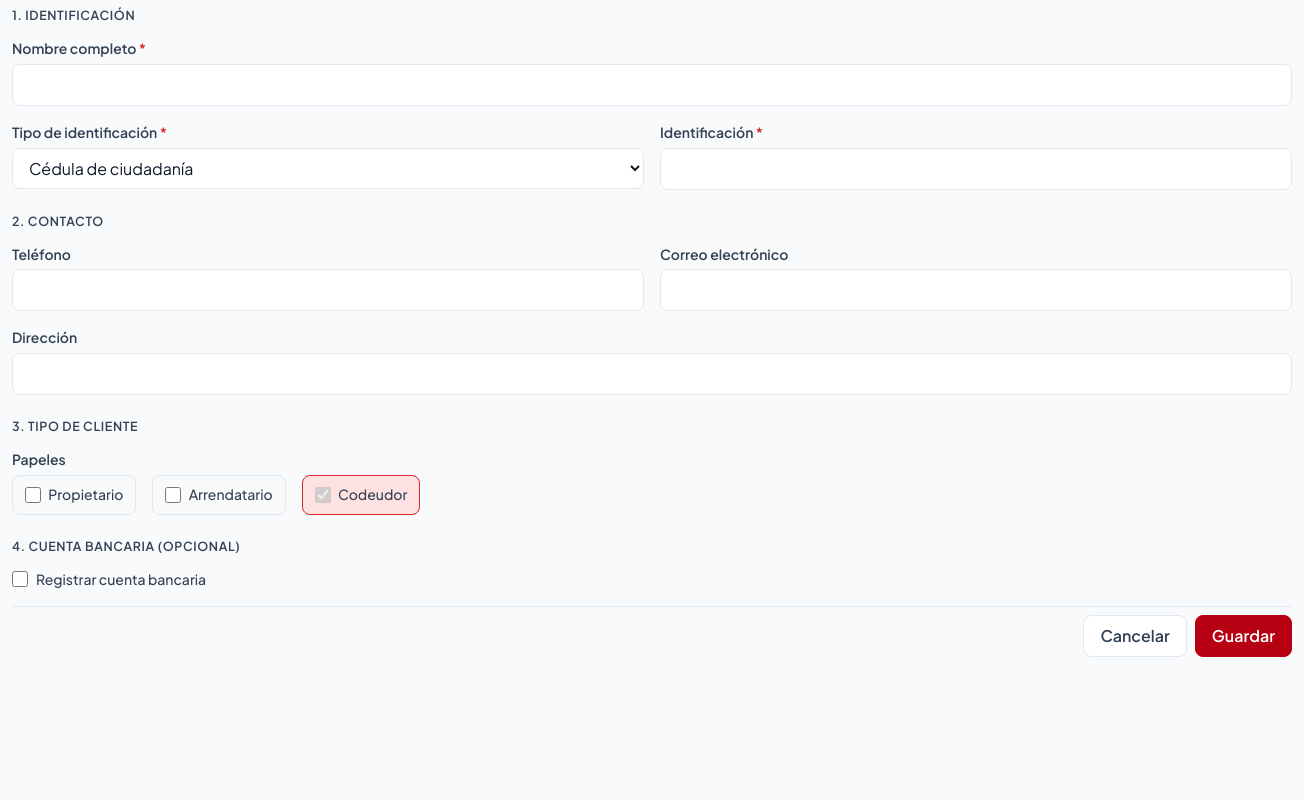
it: PersonaForm › muestra el conflicto de identificación duplicada y conserva lo escrito
The image size is (1304, 800).
Type "Otra Persona" into the field labelled "Nombre completo *" at (652,85), box [12,64,1292,106]
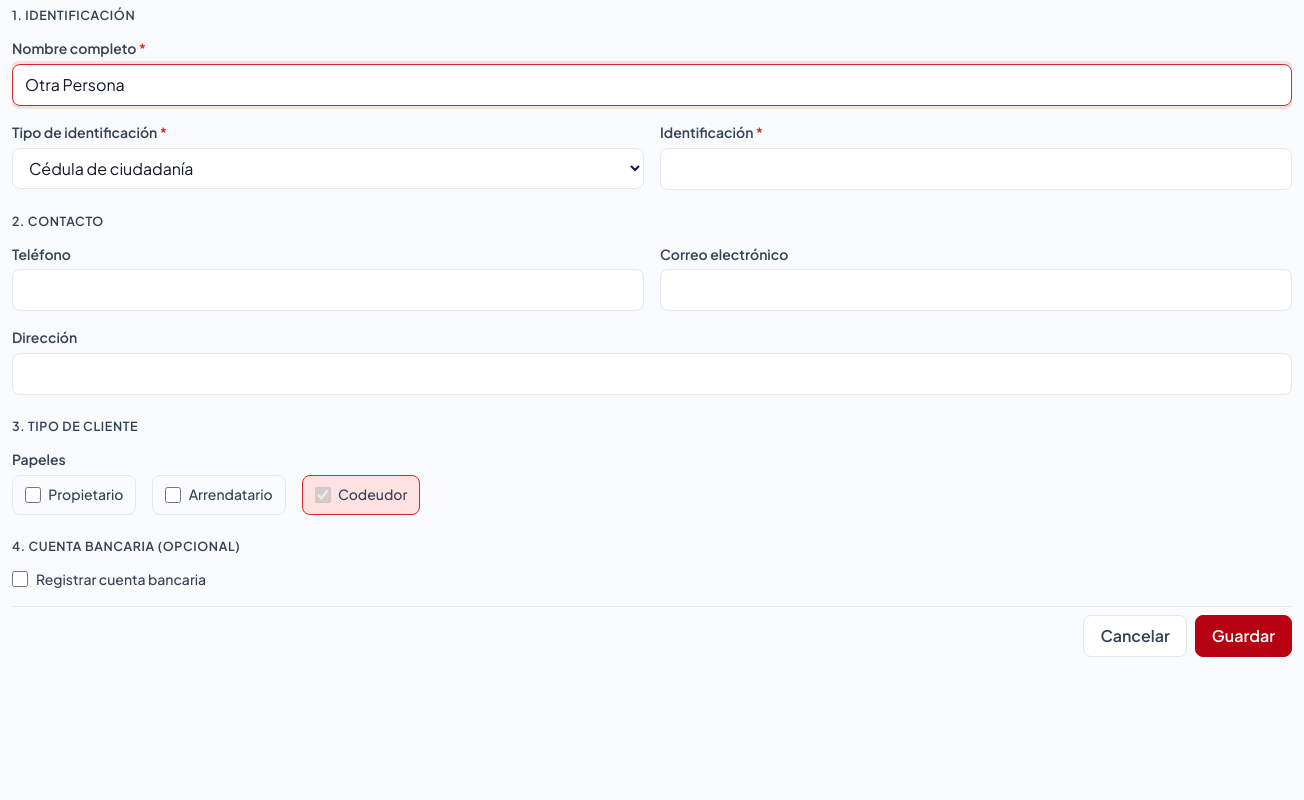
Type "99887766" into the field labelled "Identificación *" at (976,169), box [660,148,1292,190]
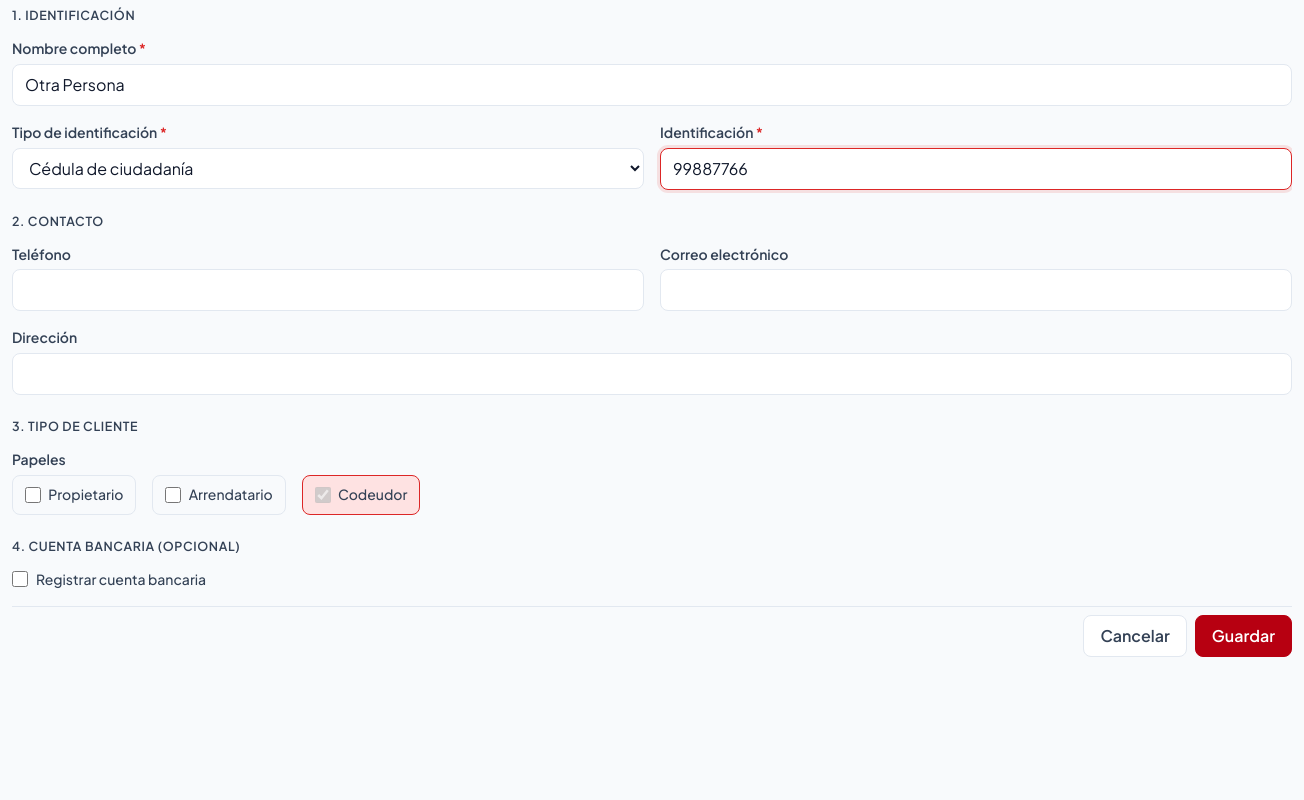
Click the button "Guardar" at (1243,636), box [1195,615,1292,657]
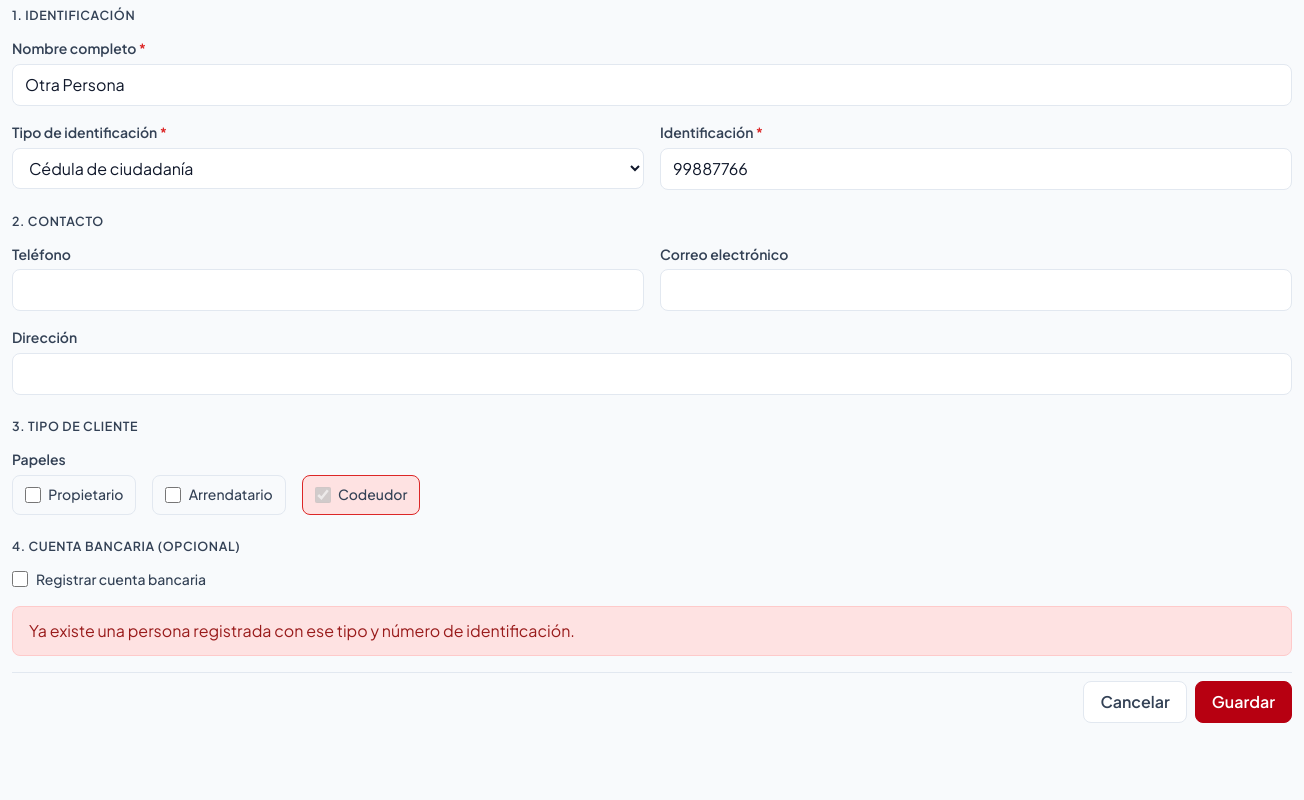
expect the message shows "Ya existe una persona registrada": met, box [29,620,575,641]
